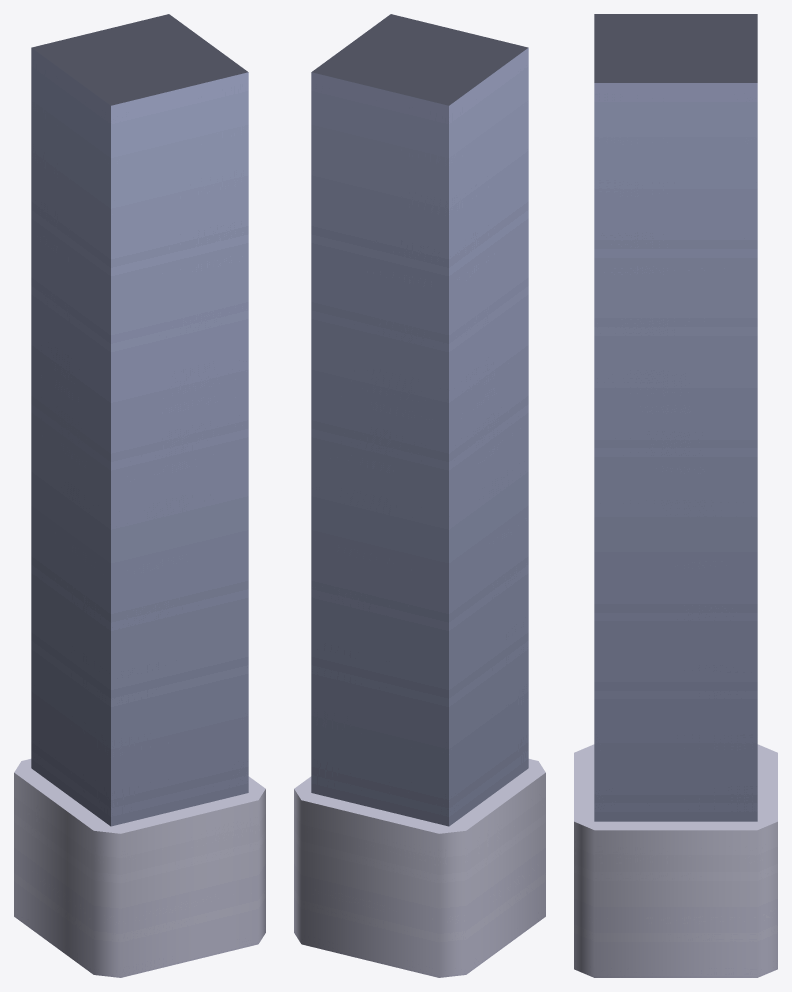
The model's file is column.glb.
3 renders of one model, left to right at view 1: azimuth 30°, elevation 25°; view 2: azimuth 150°, elevation 25°; view 3: azimuth 270°, elevation 25°, orthographic. The views are drawn at different scales.
Parts seen in each view (by area): view 1: column; view 2: column; view 3: column.
Boxes of the visible parts, x1,y1,x2,y2 form: column: (14, 14, 265, 977); column: (294, 14, 545, 977); column: (574, 14, 777, 977).
Bounding box in the file's own units: 0.5 × 2.4 × 0.5.
1 material, 1 textured.
